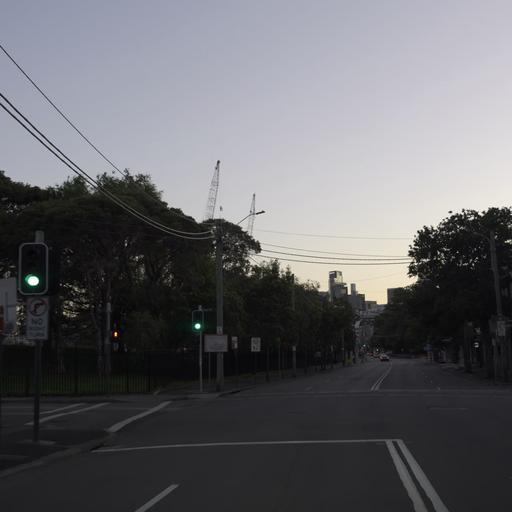Street light: (212, 208, 265, 390), (458, 226, 506, 381), (17, 241, 49, 296), (191, 308, 203, 332)
